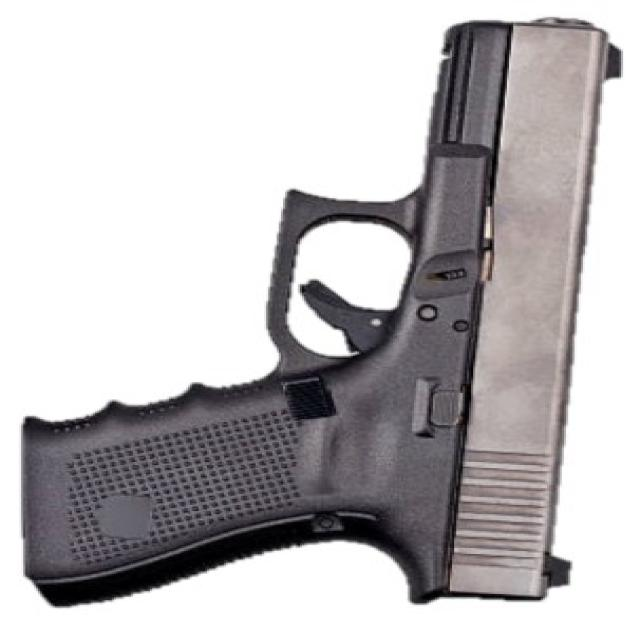pistol: (1, 1, 637, 624)
